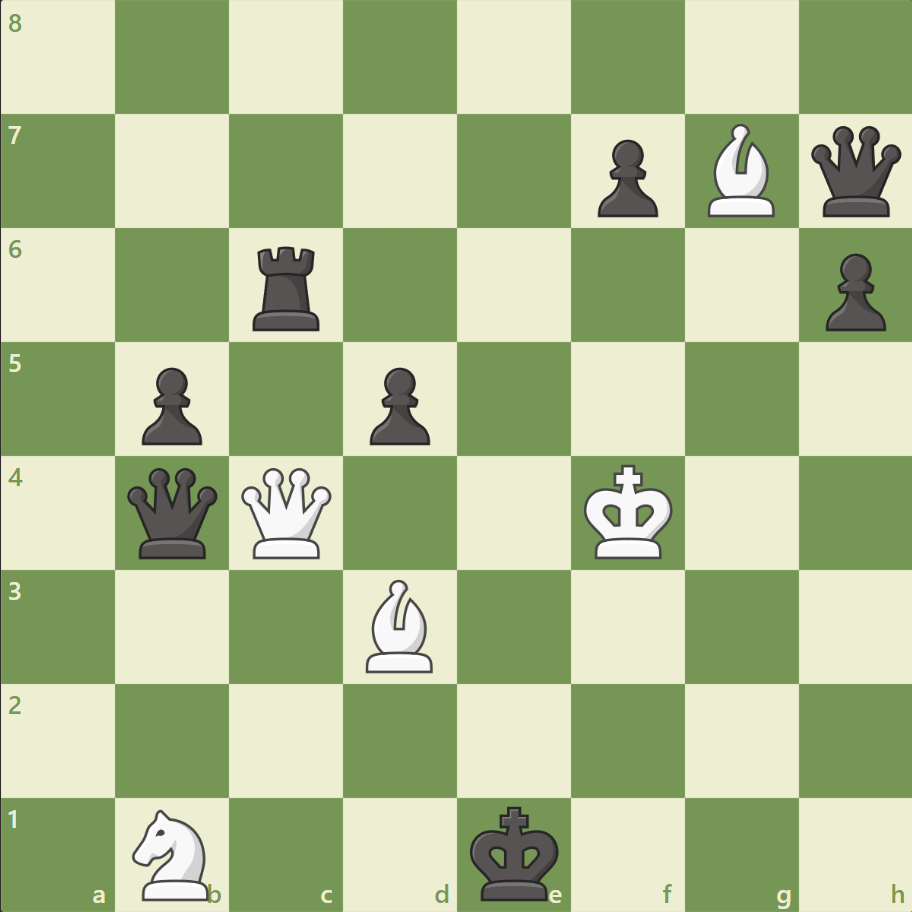B: (698, 120, 782, 222), (358, 574, 442, 676)
K: (579, 458, 679, 566)
N: (124, 802, 222, 904)
Q: (237, 463, 336, 562)
k: (465, 798, 565, 906)
p: (133, 359, 208, 450), (588, 132, 662, 223), (815, 246, 889, 337), (361, 359, 435, 450)
q: (805, 122, 904, 222), (124, 463, 223, 562)
r: (246, 239, 329, 336)
